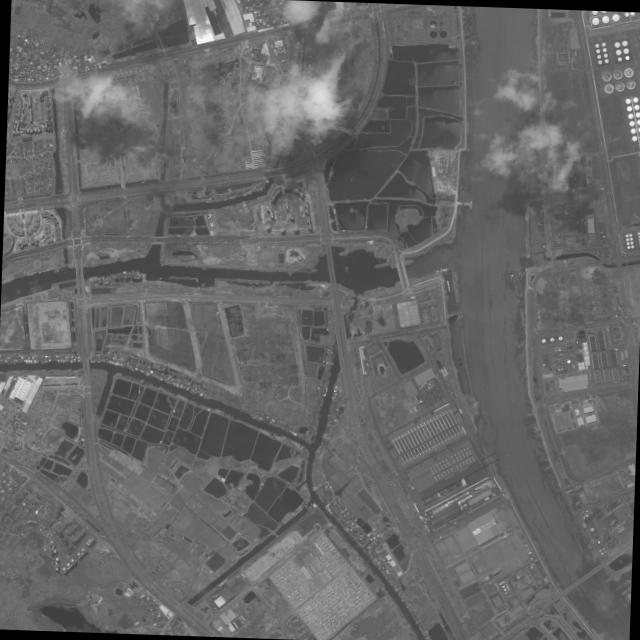storage-tank: (625, 78, 636, 89), (623, 66, 634, 77), (614, 80, 625, 91), (612, 68, 623, 79), (603, 82, 614, 93), (601, 70, 612, 81), (438, 18, 448, 28), (428, 28, 437, 38), (428, 18, 437, 28), (438, 28, 447, 38), (611, 12, 620, 21), (591, 16, 600, 24), (601, 14, 609, 22), (628, 119, 635, 126), (622, 46, 629, 53), (621, 39, 628, 46), (631, 134, 637, 141), (627, 112, 634, 118), (633, 103, 640, 109), (626, 104, 632, 111), (615, 48, 622, 54), (614, 40, 620, 47), (630, 127, 636, 133), (632, 96, 638, 102), (625, 97, 631, 103), (635, 111, 640, 117), (592, 532, 598, 537), (597, 58, 602, 64), (558, 335, 563, 340), (549, 336, 554, 341), (541, 337, 546, 342), (617, 55, 622, 60), (604, 57, 609, 62), (603, 52, 608, 57), (602, 46, 607, 51), (601, 41, 606, 46), (596, 53, 601, 58), (595, 47, 600, 52), (594, 42, 599, 47), (624, 11, 629, 16), (589, 526, 594, 531), (636, 118, 640, 124), (637, 125, 640, 132), (566, 358, 570, 363), (625, 54, 629, 59), (597, 539, 601, 543), (599, 543, 603, 547), (598, 548, 602, 552), (629, 236, 633, 240), (630, 244, 634, 247), (627, 244, 630, 248), (625, 237, 629, 240), (629, 232, 632, 236), (602, 546, 605, 549), (603, 549, 606, 552), (600, 551, 603, 554), (596, 545, 599, 548), (594, 542, 597, 545), (503, 587, 506, 590), (502, 584, 505, 587), (626, 241, 629, 244), (625, 233, 628, 236), (630, 240, 633, 243), (637, 231, 640, 234), (639, 133, 640, 139), (505, 582, 507, 585), (504, 591, 507, 593), (507, 587, 510, 589), (555, 240, 558, 242), (557, 233, 560, 235), (638, 237, 640, 240), (638, 234, 640, 237), (523, 584, 525, 586), (576, 340, 578, 342), (558, 348, 560, 350), (558, 345, 560, 347), (520, 586, 522, 588), (506, 585, 508, 587), (606, 504, 608, 506), (612, 500, 614, 502), (507, 590, 509, 592), (625, 495, 627, 497), (625, 471, 627, 473), (499, 582, 501, 584), (501, 581, 503, 583), (558, 237, 560, 239), (558, 240, 560, 242), (555, 238, 557, 240), (555, 235, 557, 237), (639, 243, 640, 246), (639, 240, 640, 243), (522, 585, 523, 587), (623, 495, 625, 496), (614, 499, 615, 501), (615, 498, 616, 500), (624, 496, 626, 497), (622, 467, 623, 469), (623, 467, 625, 468), (623, 470, 624, 472), (623, 468, 625, 469), (503, 580, 504, 582), (625, 494, 626, 495)
